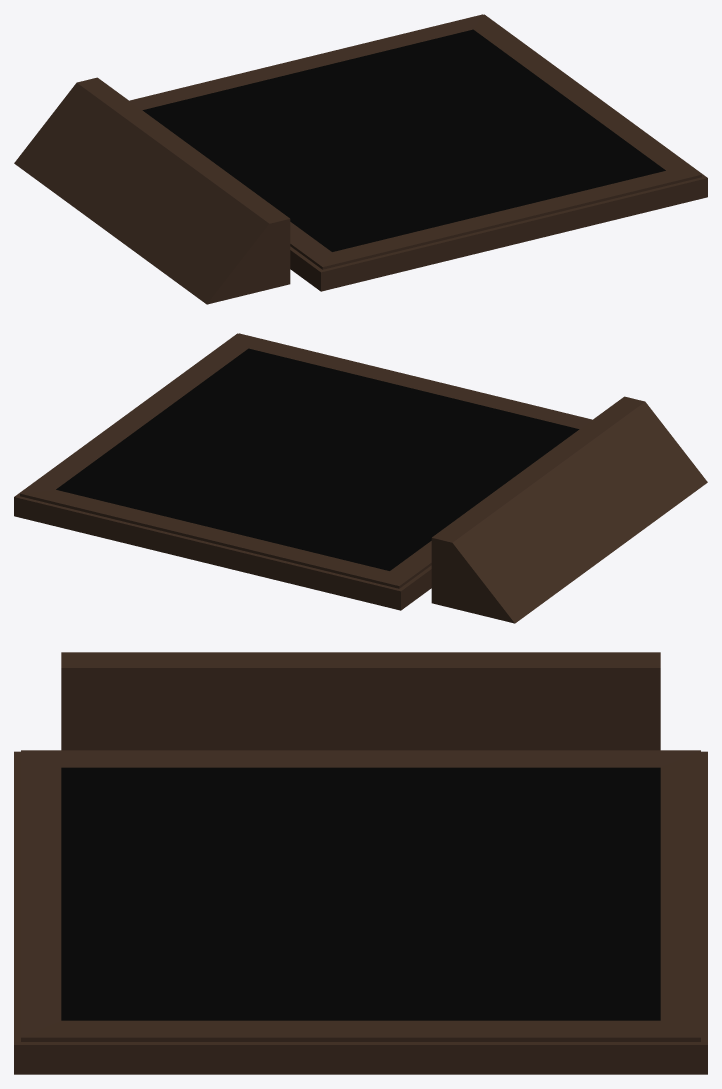
Rendered from ChessSet.fbx.
The picture shows the model from 3 angles, top to bottom: view 1: azimuth 30°, elevation 25°; view 2: azimuth 150°, elevation 25°; view 3: azimuth 270°, elevation 25°; orthographic projection. The views are drawn at different scales.
Visible parts, largest first — view 1: Board, UIHolder, border; view 2: Board, UIHolder, border; view 3: Board, border, UIHolder.
Part boxes in pixels (bbox=[...]): Board: bbox=[142, 29, 665, 251]; UIHolder: bbox=[14, 77, 290, 304]; border: bbox=[129, 14, 707, 291]; Board: bbox=[56, 348, 579, 570]; UIHolder: bbox=[431, 396, 707, 623]; border: bbox=[14, 333, 592, 610]; Board: bbox=[61, 767, 660, 1020]; border: bbox=[14, 750, 707, 1074]; UIHolder: bbox=[61, 652, 660, 750].
Size of the model in its own units: 1163 by 150 by 927.
